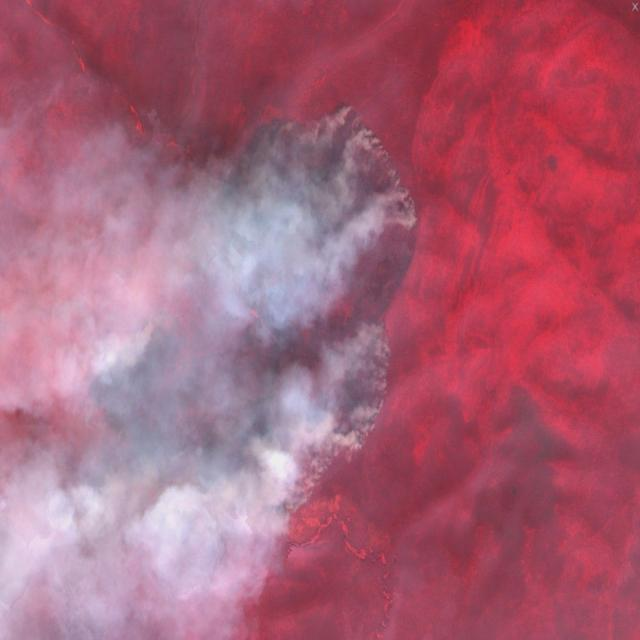fire: (77, 86, 429, 532)
